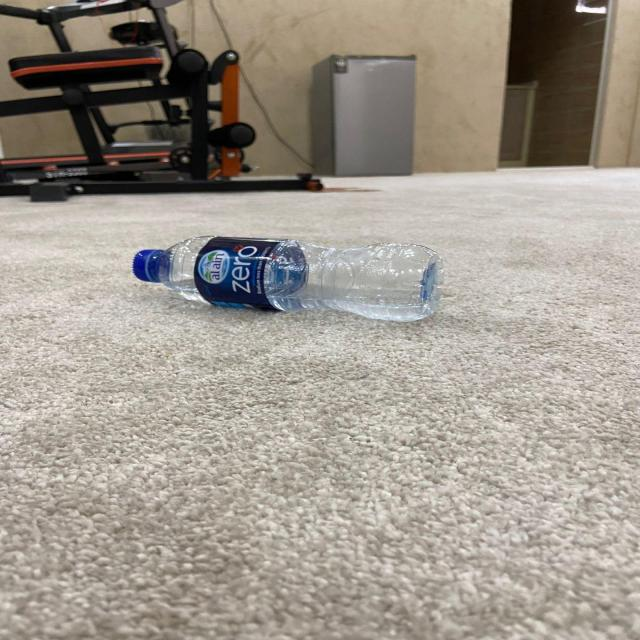bottle: (108, 231, 472, 340)
